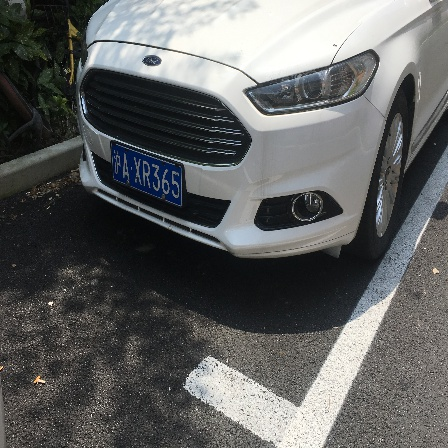plate: (110, 141, 186, 209)
